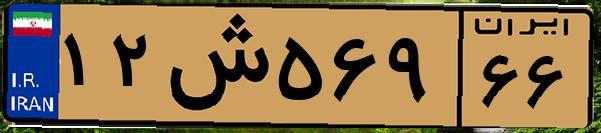1: (57, 26, 110, 100)
2: (110, 28, 158, 98)
5: (270, 28, 330, 110)
6: (330, 28, 385, 110), (475, 38, 525, 113), (525, 38, 570, 115)
9: (385, 28, 445, 110)
ش: (158, 12, 270, 120)
